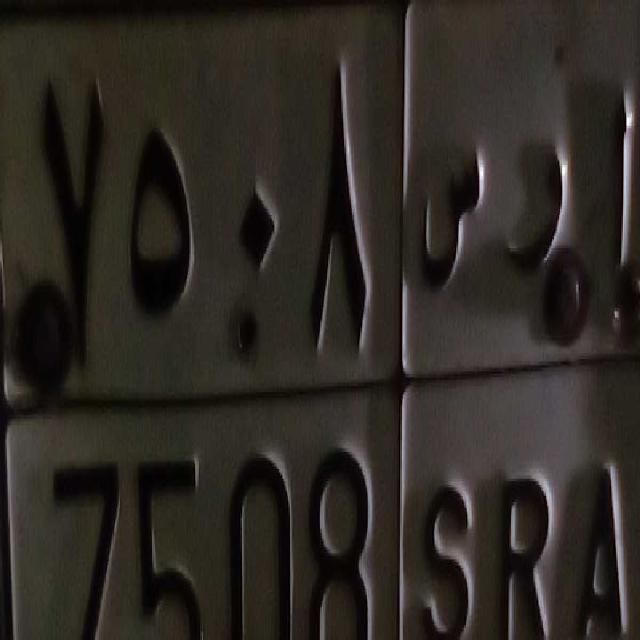license_plate: (7, 378, 640, 640)
